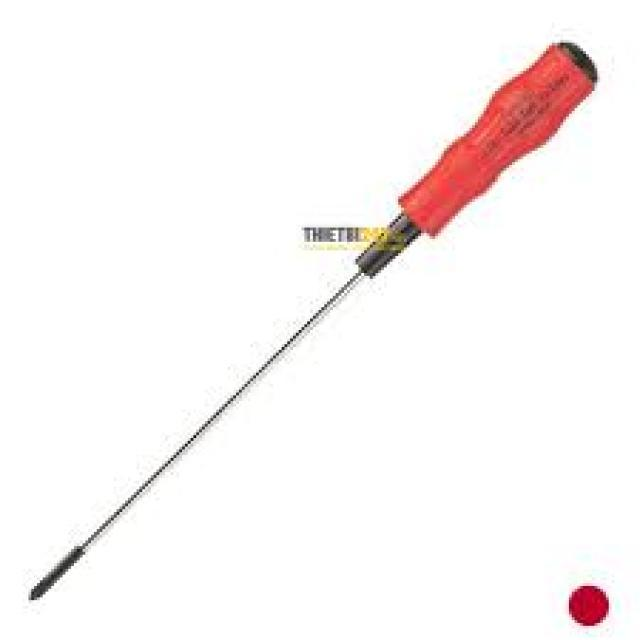screwdriver: (21, 40, 602, 603)
